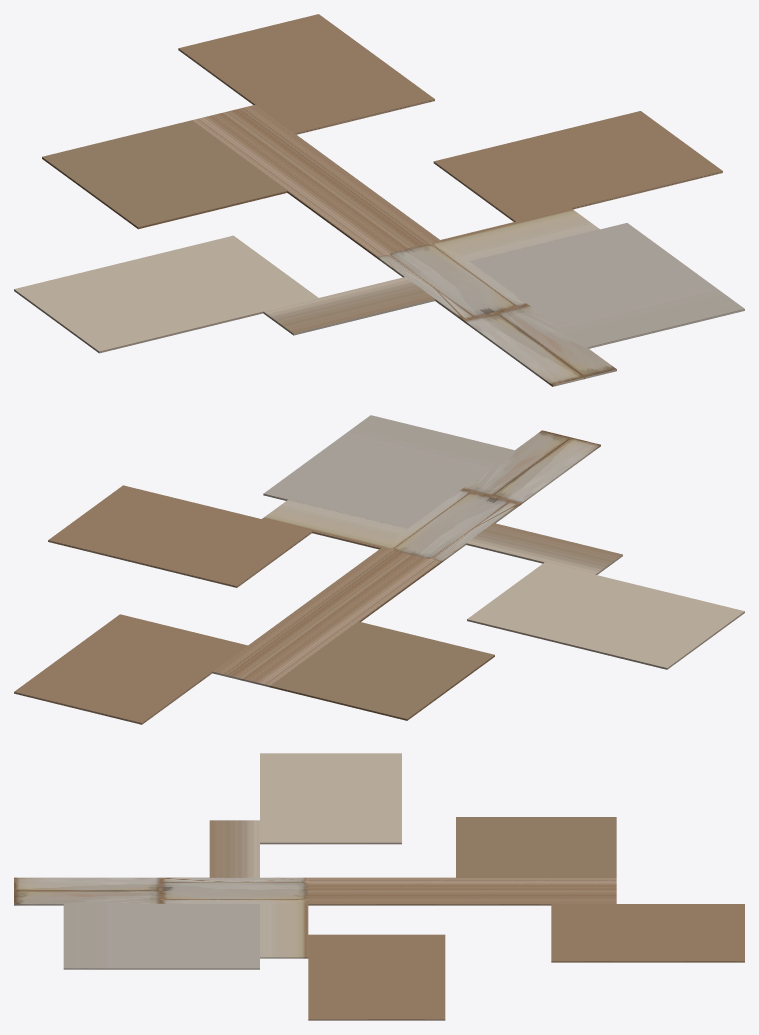
The picture shows the model from 3 angles, top to bottom: view 1: azimuth 30°, elevation 25°; view 2: azimuth 150°, elevation 25°; view 3: azimuth 270°, elevation 25°; orthographic projection. The views are drawn at different scales.
Parts seen in each view (by area): view 1: FloorPlan; view 2: FloorPlan; view 3: FloorPlan.
Boxes of the visible parts, x1,y1,x2,y2 form: FloorPlan: [14, 14, 744, 386]; FloorPlan: [14, 415, 744, 724]; FloorPlan: [14, 753, 744, 1020].
Bounding box in the file's own units: 14597 × 41.37 × 16988.
Materials: 1 (1 with a texture image).
